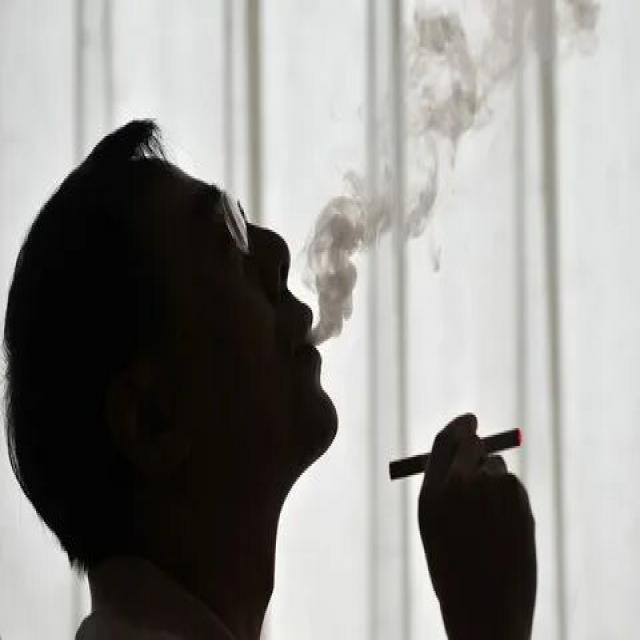cigarette: (384, 424, 529, 486)
